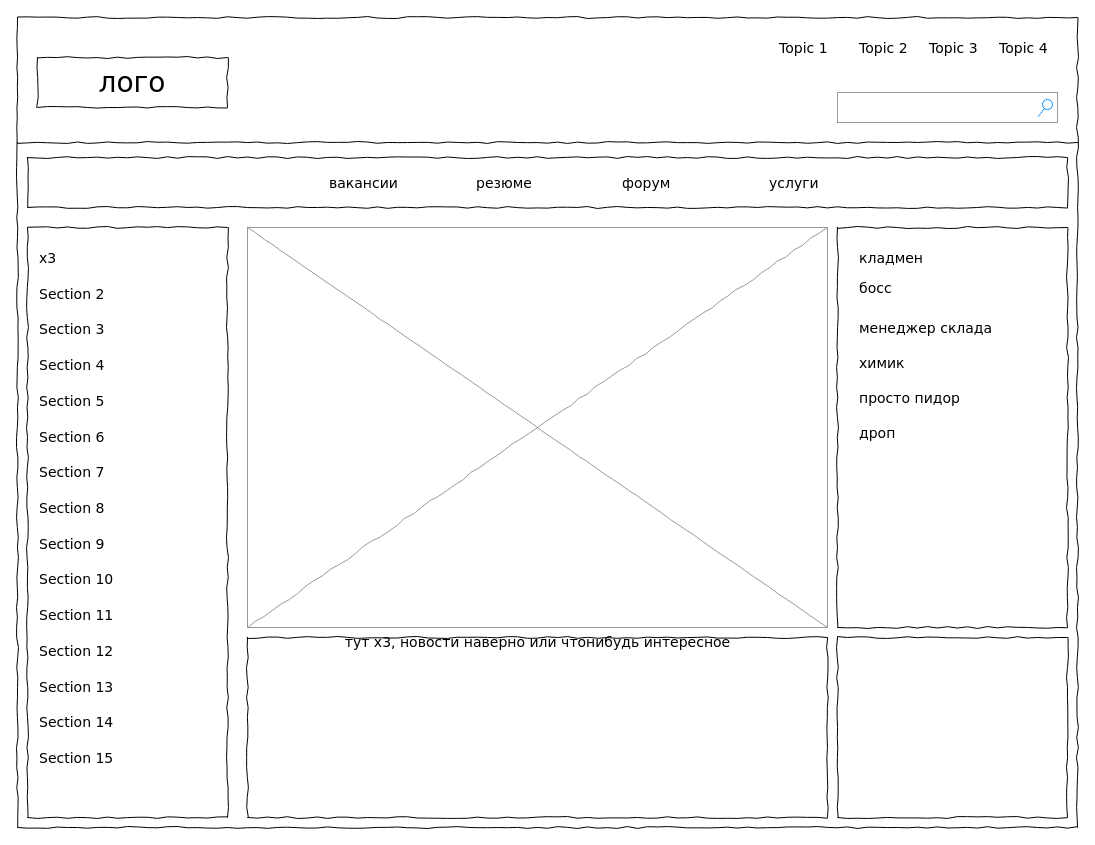
The diagram is 1095 pixels wide and 845 high, and some of its shapes have lost their labels. The box of each missing label's shape, as (x1, y1, x2, y2) in pixels:
поиск: (836, 92, 1058, 122)
ссылки на друзей (а в торе они есть?): (836, 636, 1068, 818)
